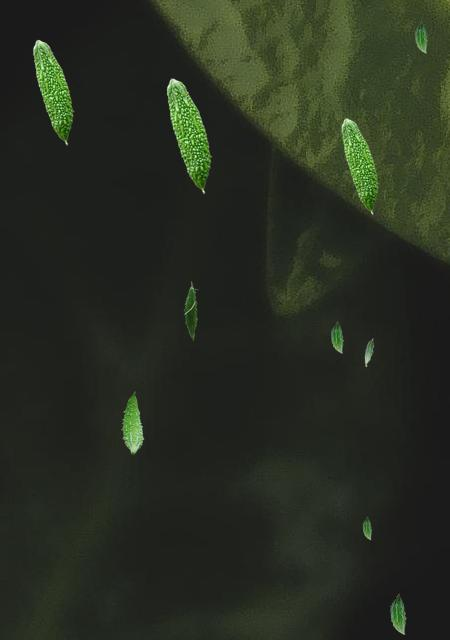ampalaya: (166, 78, 212, 194), (32, 39, 74, 145), (341, 118, 379, 215), (121, 391, 144, 455), (183, 280, 199, 341), (389, 593, 406, 635), (414, 21, 427, 53), (330, 321, 343, 353), (364, 338, 374, 367), (362, 516, 372, 540)
